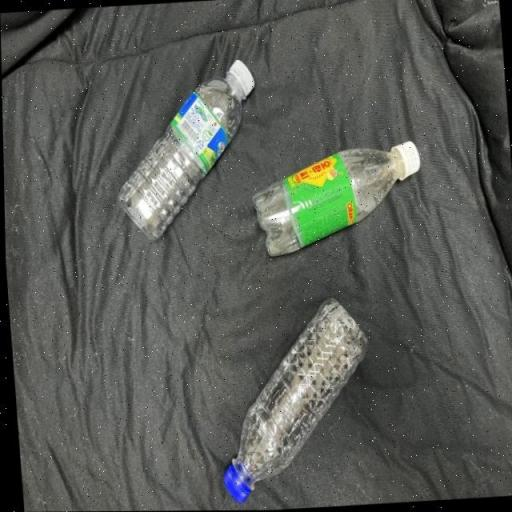plastic: (209, 287, 381, 511)
